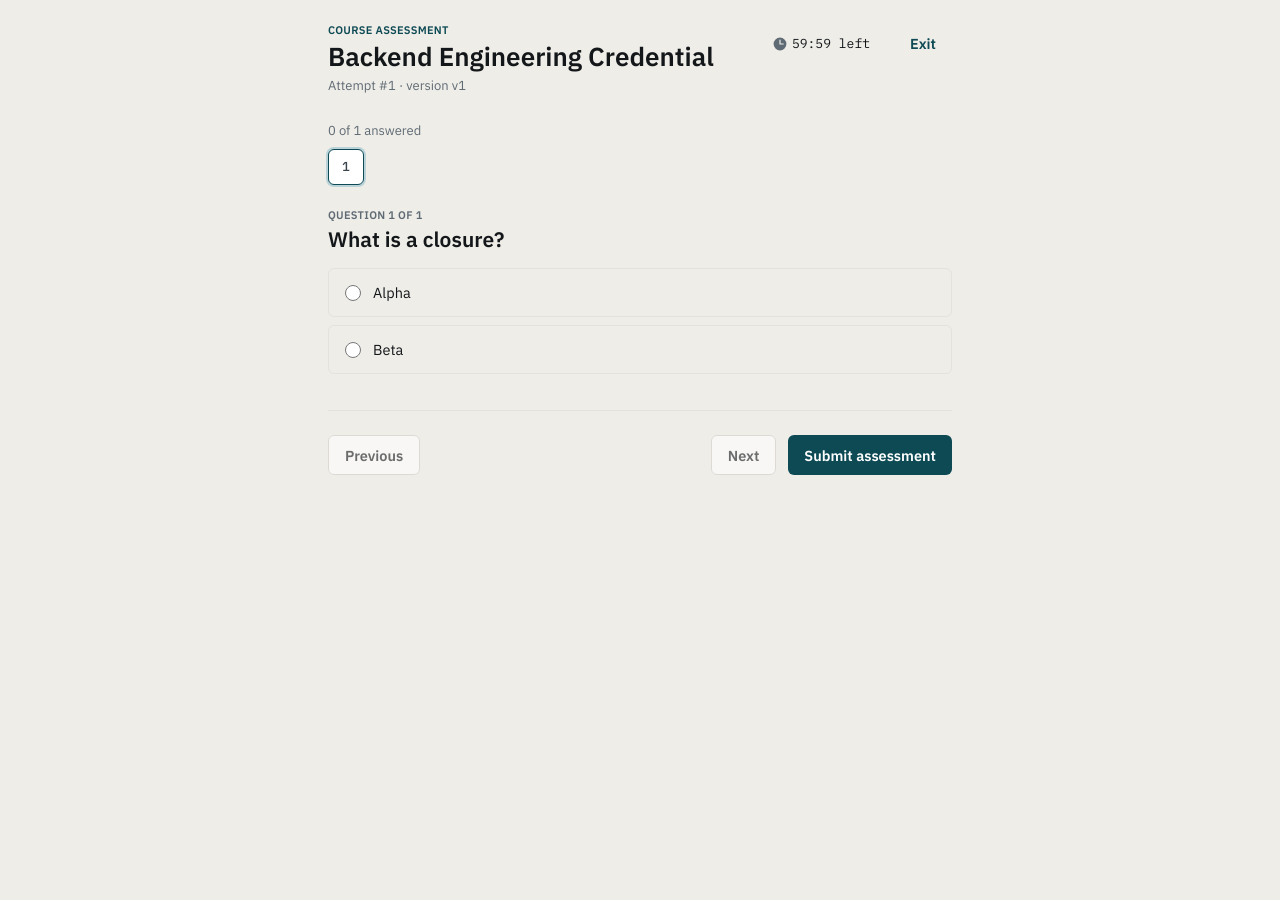
AttemptShell submission › blocks submit when an autosave has failed
This screenshot has width=1280, height=900.
Click the radio button labelled "Alpha" at (353, 293), box [345,285,361,301]
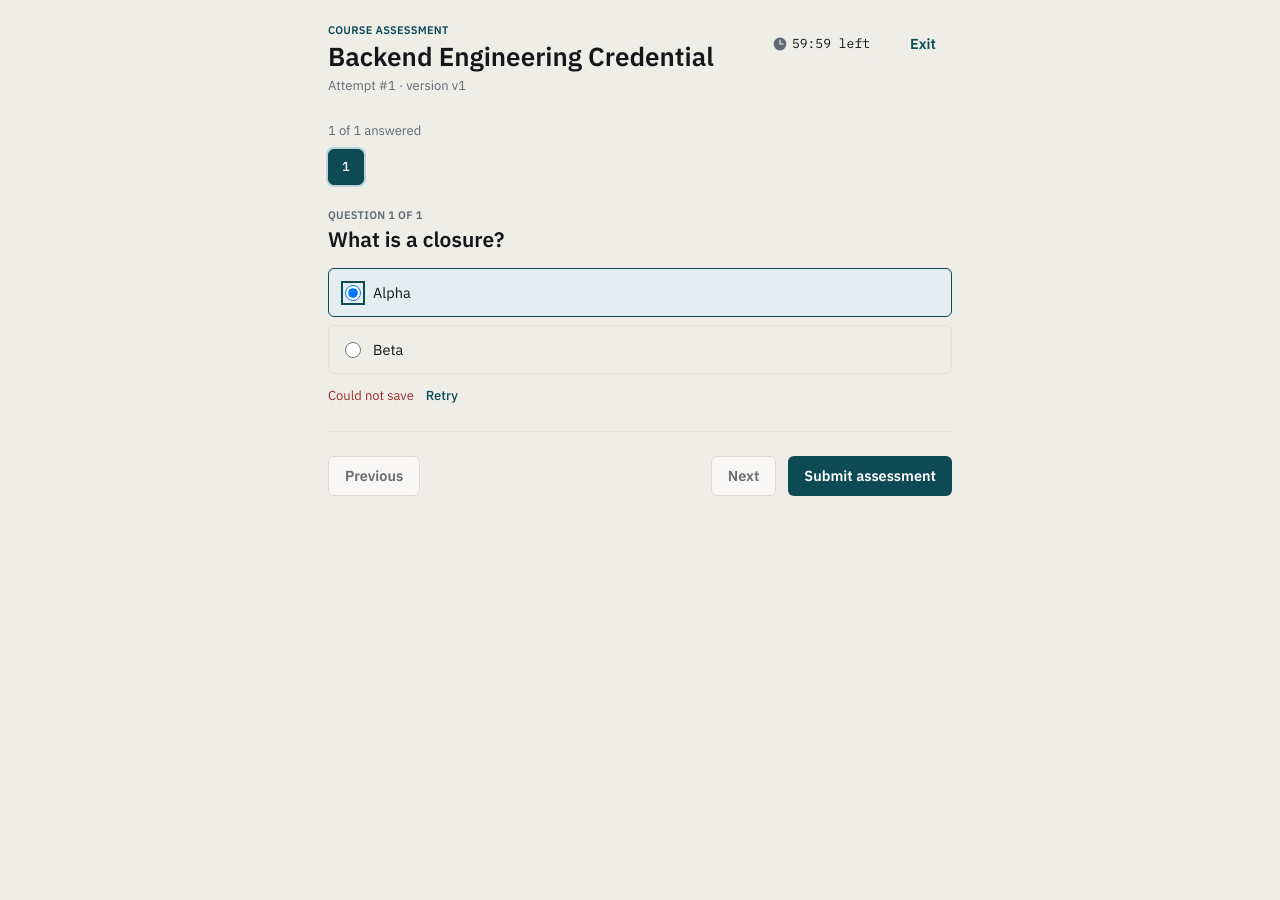
Now the text "Could not save" is shown, box [328,386,414,407]
Click the button "Submit assessment" at (870, 476), box [788,456,952,496]
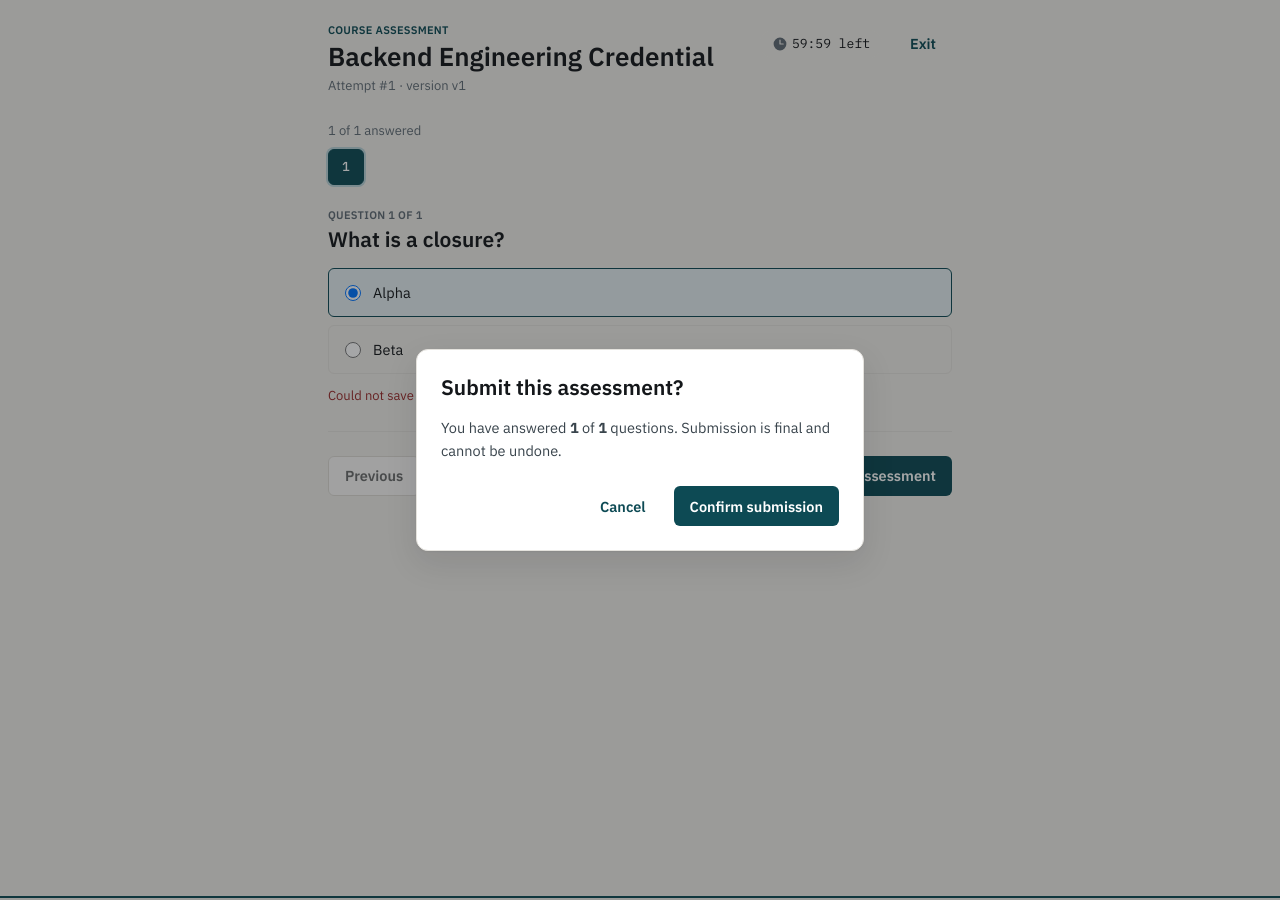
Click the button "Confirm submission" at (756, 506), box [674,486,839,526]
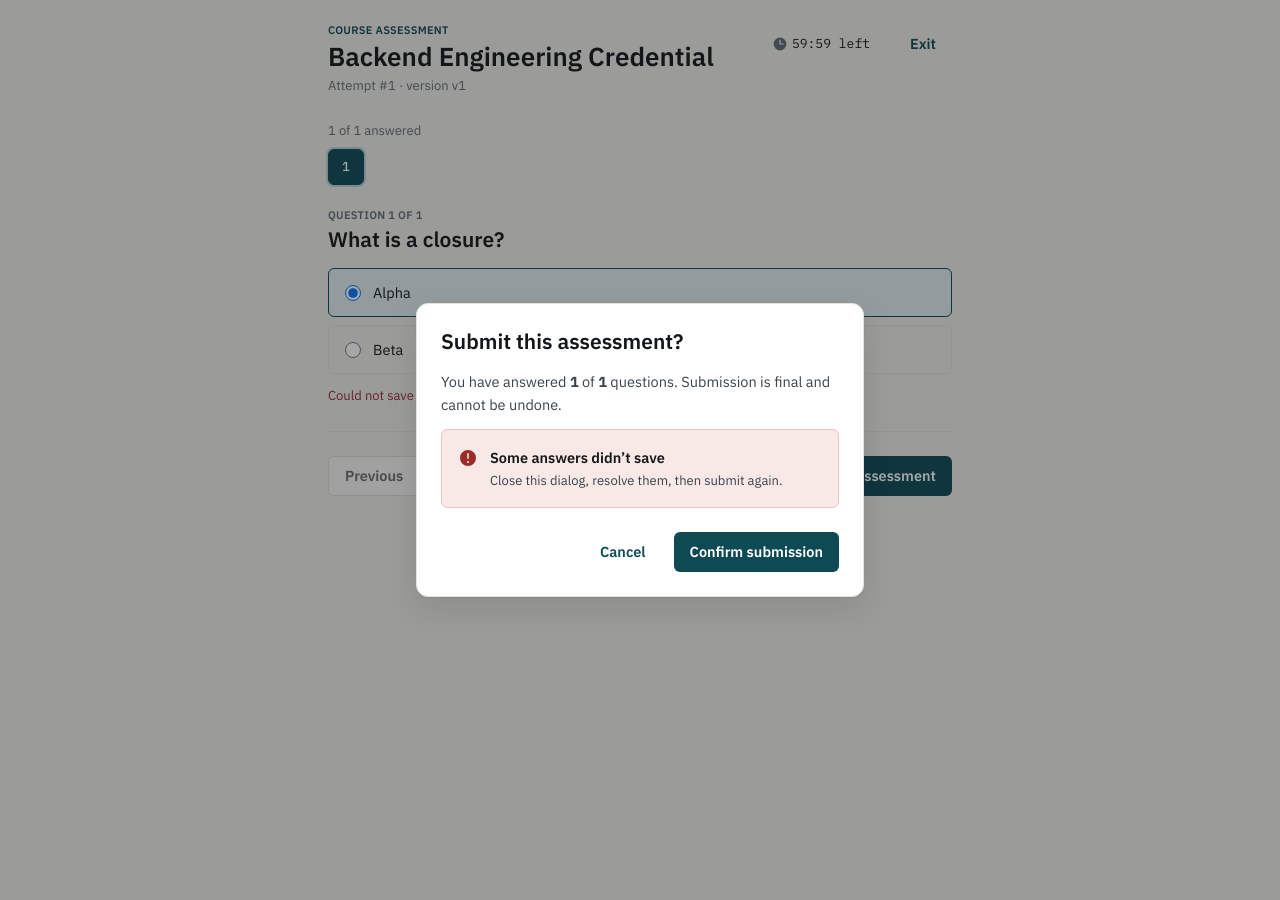
Now the text "Some answers didn’t save" is shown, box [490,448,665,467]
